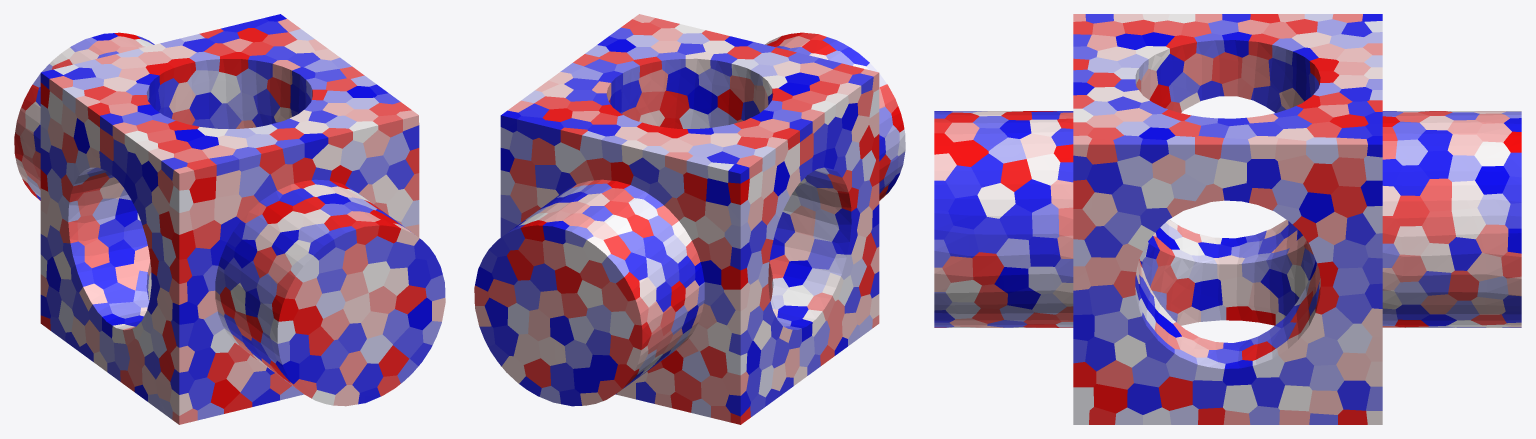
The model's file is Ours_1000_block_Iter11_RVD.obj.
3 views of the same model, side by side, from view 1: azimuth 30°, elevation 25°; view 2: azimuth 150°, elevation 25°; view 3: azimuth 270°, elevation 25° (orthographic). The views are drawn at different scales.
Parts seen in each view (by area): view 1: 3D_Object; view 2: 3D_Object; view 3: 3D_Object.
Boxes of the visible parts, x1=… form: 3D_Object: x1=14, y1=14, x2=445, y2=424; 3D_Object: x1=474, y1=14, x2=905, y2=424; 3D_Object: x1=934, y1=14, x2=1521, y2=424.
Size of the model in its own units: 20 by 20 by 38.
Materials: 1 (1 with a texture image).
